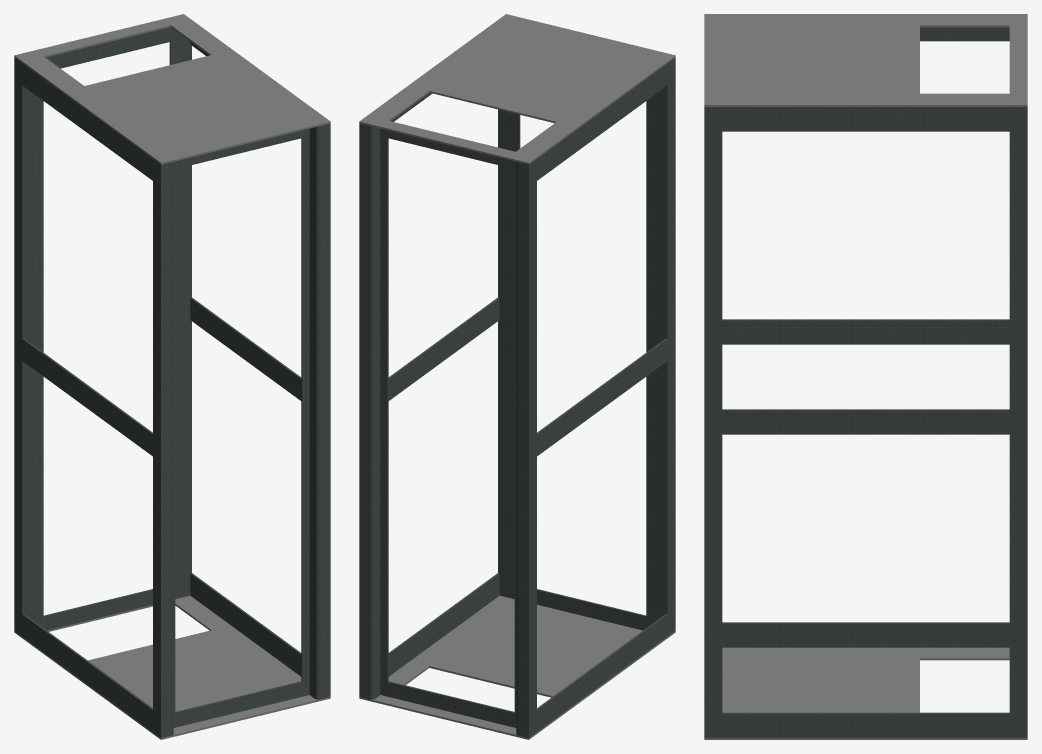
File: LogDev 42U 4 Post Server Rack 5000 36x24x78.glb
The picture shows the model from 3 angles, left to right: view 1: azimuth 30°, elevation 25°; view 2: azimuth 150°, elevation 25°; view 3: azimuth 270°, elevation 25°; orthographic projection. The views are drawn at different scales.
Parts seen in each view (by area): view 1: object 1, object 3, object 5; view 2: object 1, object 3, object 5; view 3: object 1, object 3, object 5.
Part boxes in pixels (bbox=[...]): object 1: bbox=[14, 27, 330, 737]; object 3: bbox=[14, 14, 330, 164]; object 5: bbox=[14, 595, 330, 739]; object 1: bbox=[359, 57, 675, 737]; object 3: bbox=[359, 14, 675, 164]; object 5: bbox=[359, 595, 675, 739]; object 1: bbox=[704, 27, 1027, 737]; object 3: bbox=[704, 14, 1027, 106]; object 5: bbox=[704, 647, 1027, 739].
Size of the model in its own units: 0.6096 by 1.98 by 0.9144.
2 materials, 1 textured.
